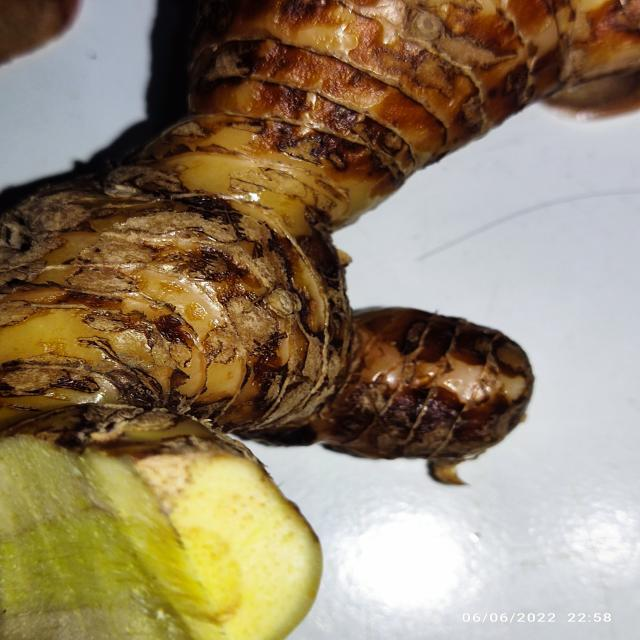ginger: (9, 0, 640, 418)
